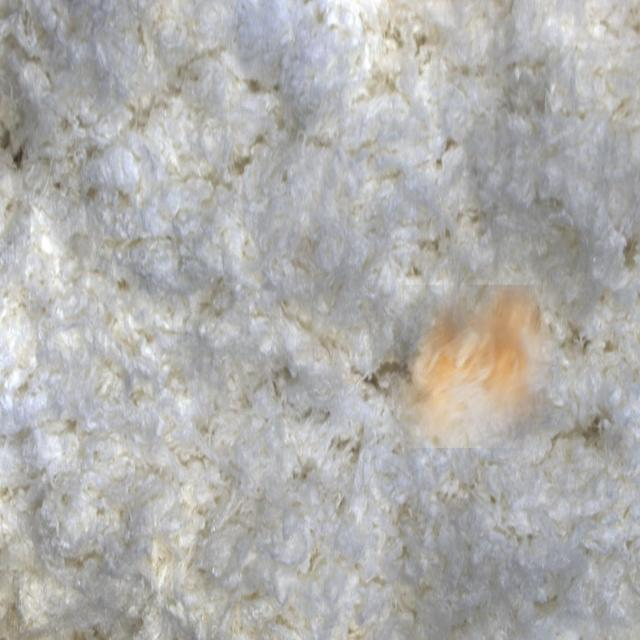dust: (394, 285, 554, 448)
